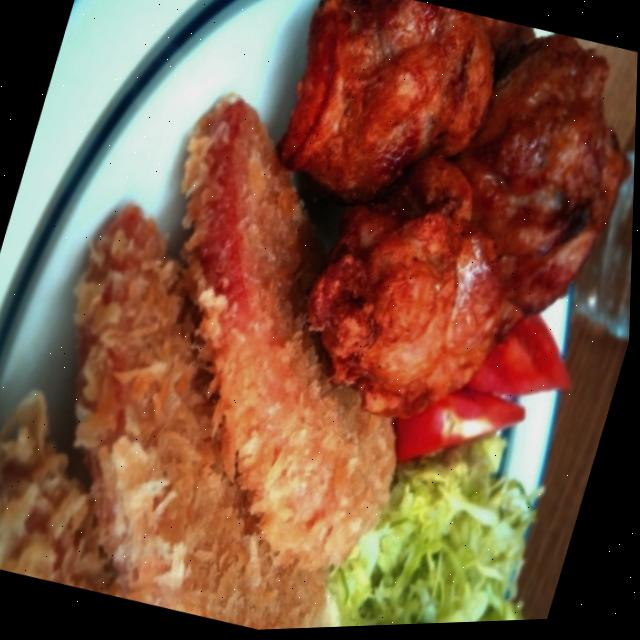炸货点心: (0, 53, 512, 640)
